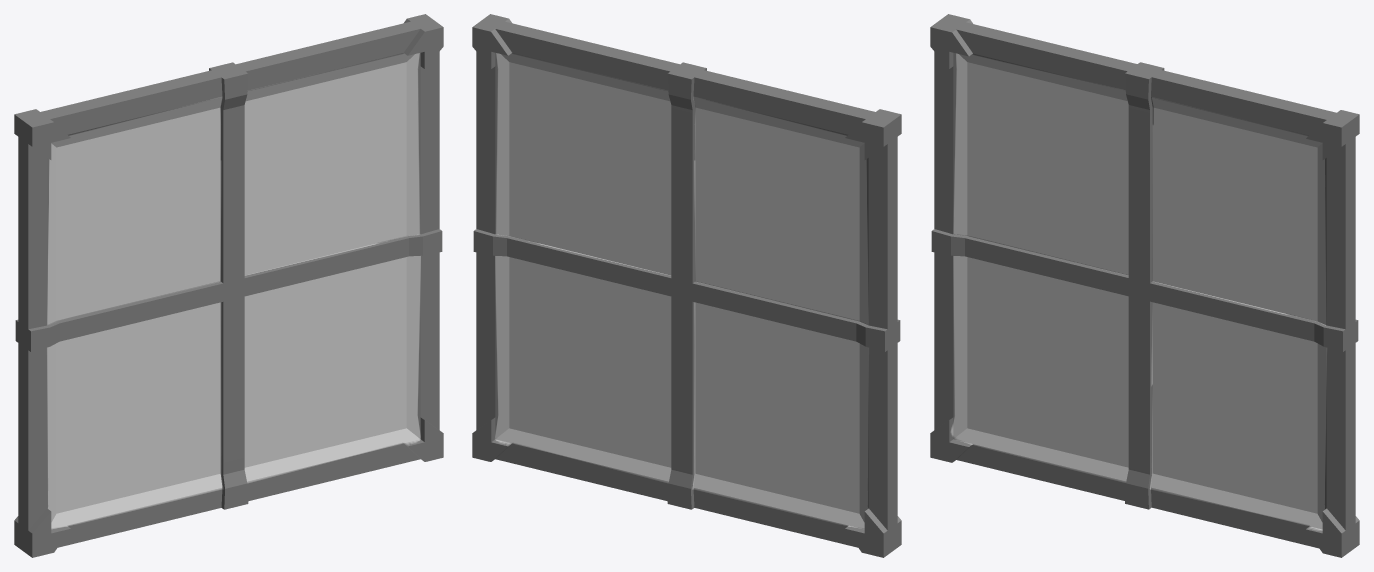
File: WallPanel_02.fbx
3 renders of one model, left to right at view 1: azimuth 30°, elevation 25°; view 2: azimuth 150°, elevation 25°; view 3: azimuth 330°, elevation 25°, orthographic.
Visible parts, largest first — view 1: Wall_01; view 2: Wall_01; view 3: Wall_01.
Part boxes in pixels (x1=…): Wall_01: x1=14, y1=14, x2=443, y2=557; Wall_01: x1=472, y1=14, x2=901, y2=557; Wall_01: x1=930, y1=14, x2=1359, y2=557.
Bounding box in the file's own units: 10 × 10 × 0.7598.
1 material, 1 textured.
